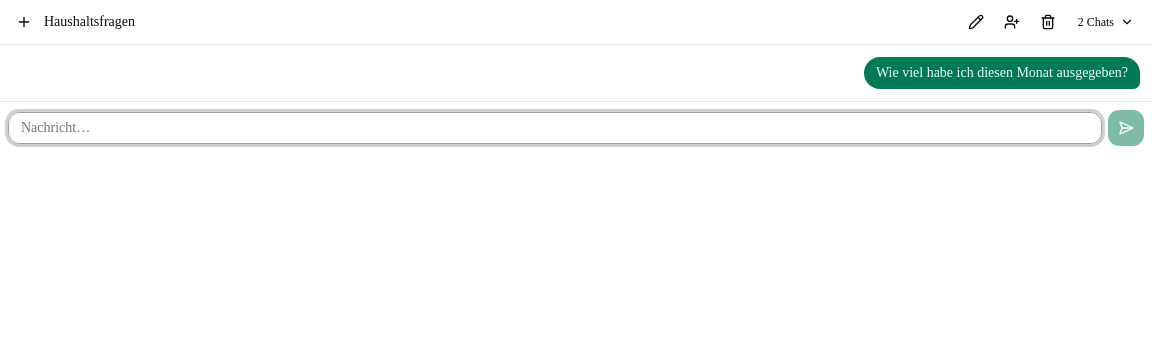
it: <AgentChat> › keeps turn UI out of the other thread's list when switching mid-turn
This screenshot has width=1152, height=344.
expect the text "Haushaltsfragen" is shown: met, box [44,14,135,29]
Type "Wie viel?" into the field with placeholder "Nachricht…" at {"x": 555, "y": 128}, box [8,112,1102,144]
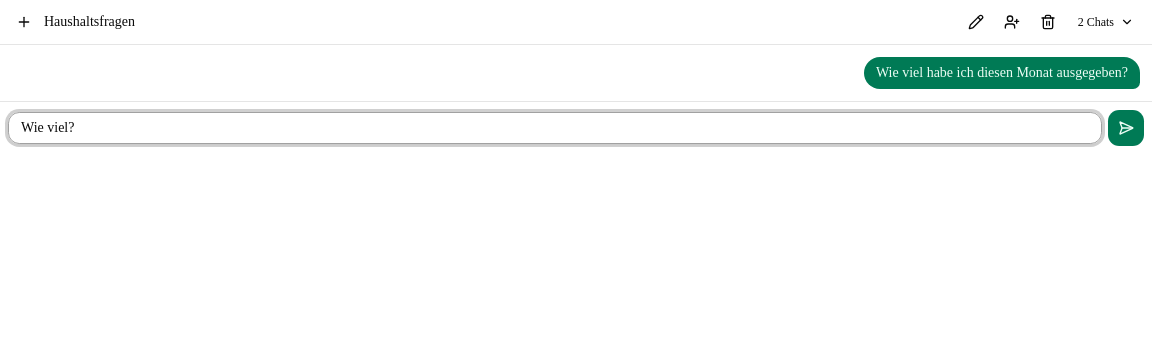
Click the button named "Senden" at {"x": 1126, "y": 128}, box [1108,110,1144,146]
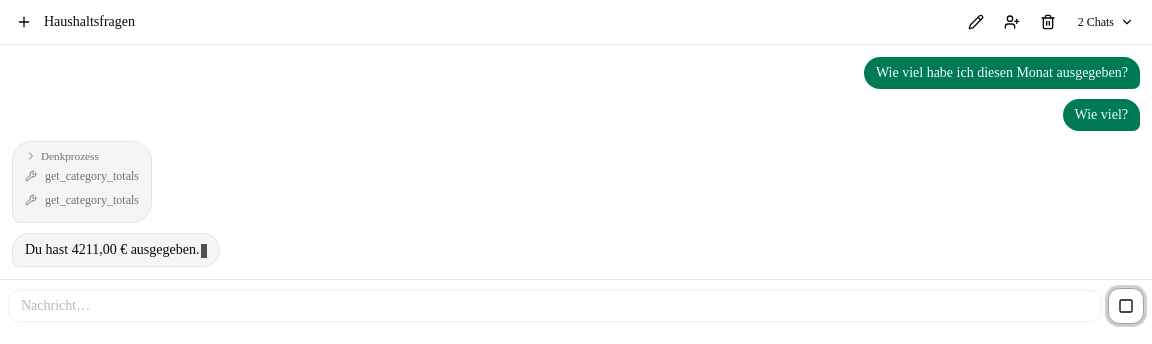
expect the text "Wie viel?" is shown: met, box [1074,105,1128,125]
# switch to t2 while the turn holds (the stream is never released)
Click the button "2 Chats" at {"x": 1106, "y": 22}, box [1068,8,1144,36]
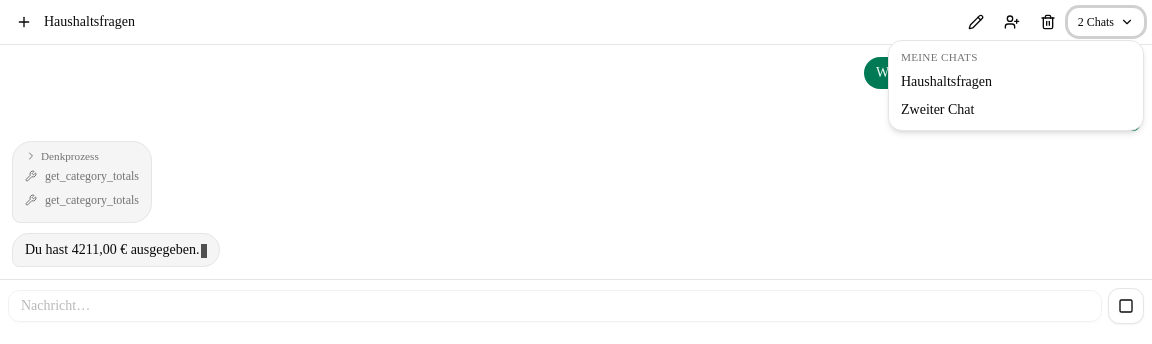
Click the button "Zweiter Chat" at {"x": 1016, "y": 110}, box [893,96,1139,124]
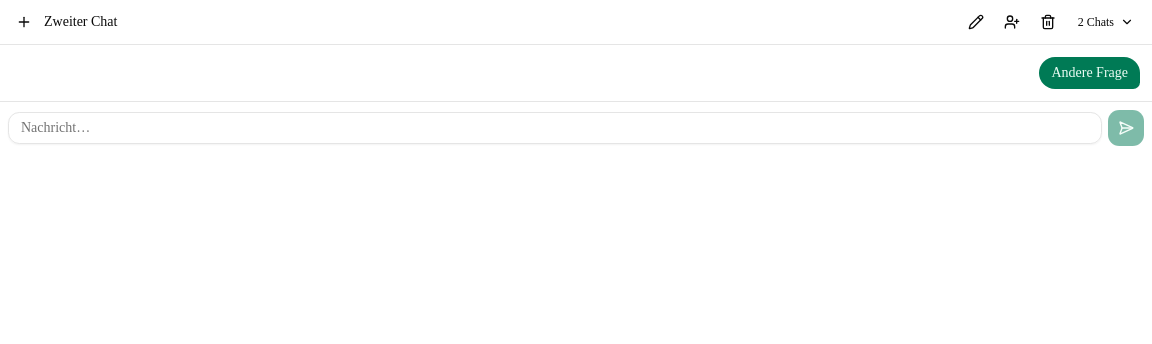
expect the button "get_category_totals" is gone: met
expect the text "Andere Frage" is shown: met, box [1051,63,1128,83]
expect the text "Wie viel?" is gone: met
